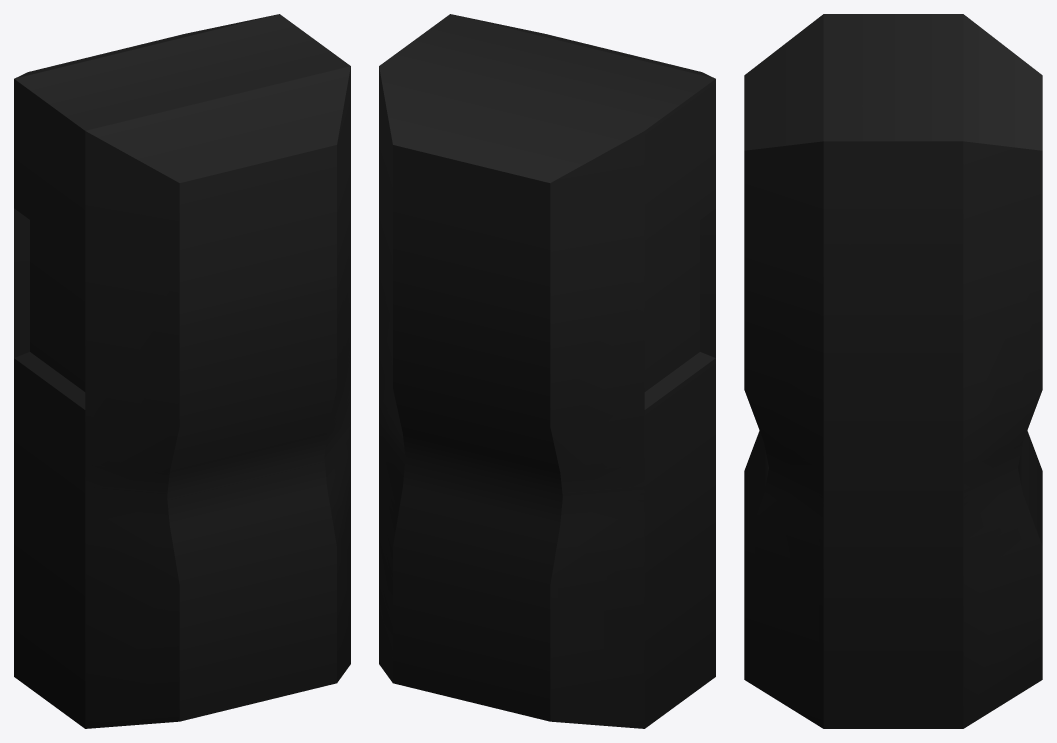
The model's file is Msh_Battery.FBX.
The picture shows the model from 3 angles, left to right: view 1: azimuth 30°, elevation 25°; view 2: azimuth 150°, elevation 25°; view 3: azimuth 270°, elevation 25°; orthographic projection.
Parts seen in each view (by area): view 1: Msh_Battery; view 2: Msh_Battery; view 3: Msh_Battery.
Boxes of the visible parts, x1,y1,x2,y2 form: Msh_Battery: (14,14,350,728); Msh_Battery: (379,14,715,728); Msh_Battery: (744,14,1042,728).
Size of the model in its own units: 7.39 by 15.9 by 7.32.
